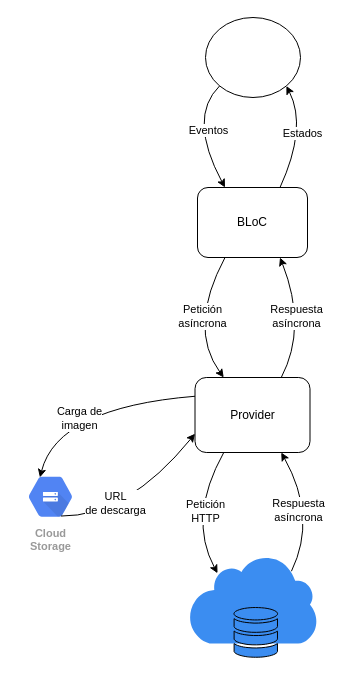
The diagram is 342 pixels wide and 675 high, and some of its shapes have lost their labels. The shapes that lost their labels are listed below. From the top down, each one's box as (x1, y1, x2, y2) in pixels, then its label:
(204, 16, 300, 98): UI
(188, 554, 317, 643): Firebase Realtime Database
